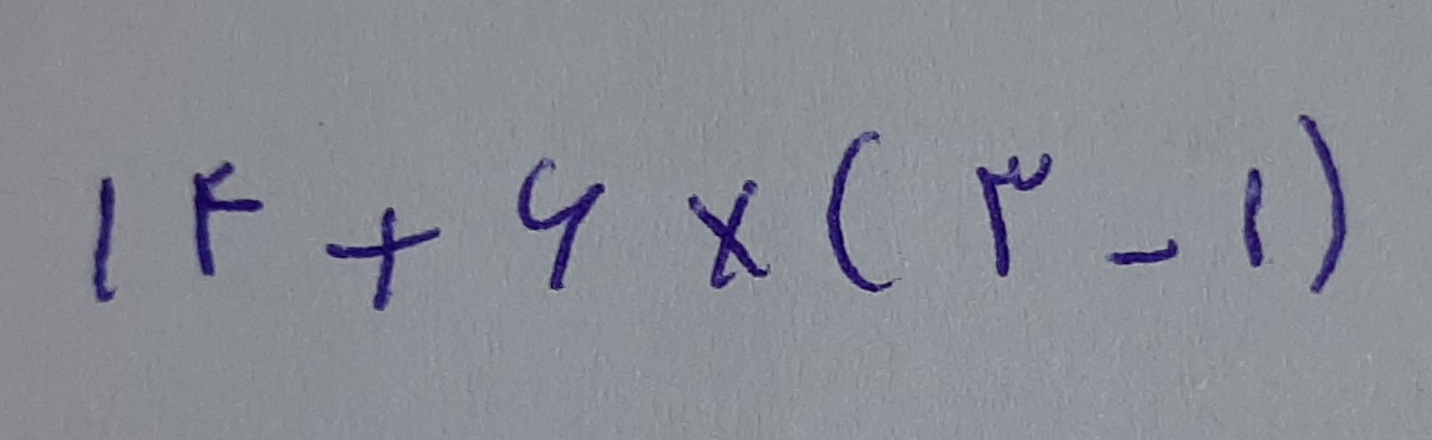character: (328, 208, 442, 312), (827, 129, 898, 293), (518, 158, 604, 291), (976, 152, 1053, 280), (686, 181, 769, 290), (1300, 113, 1347, 293), (191, 162, 261, 278), (92, 174, 118, 305), (1107, 237, 1180, 268), (1243, 170, 1266, 254)
